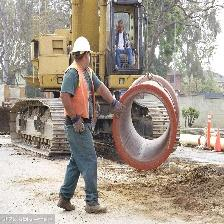Person: (57, 35, 105, 216), (114, 19, 133, 70)
helmet: (71, 37, 91, 59)
no-helmet: (116, 19, 126, 28)
no-vest: (118, 33, 130, 51)
vest: (66, 61, 96, 121)
